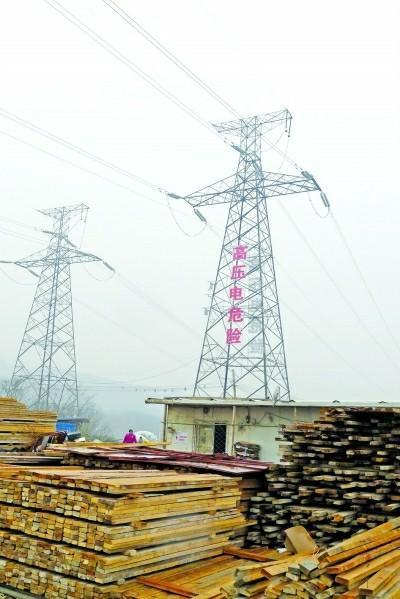power_tower: (176, 99, 344, 416), (2, 188, 114, 420)
